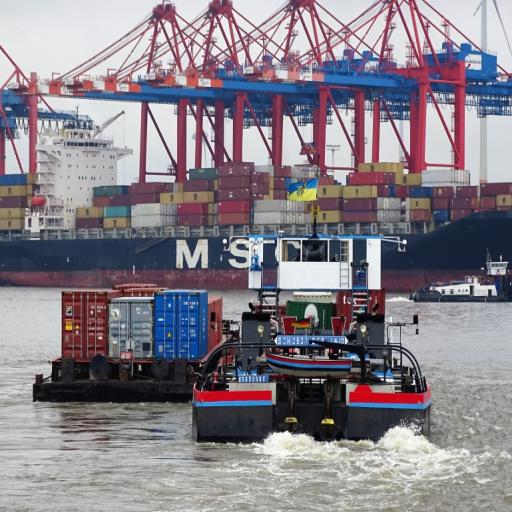tugboat: (191, 226, 437, 456)
